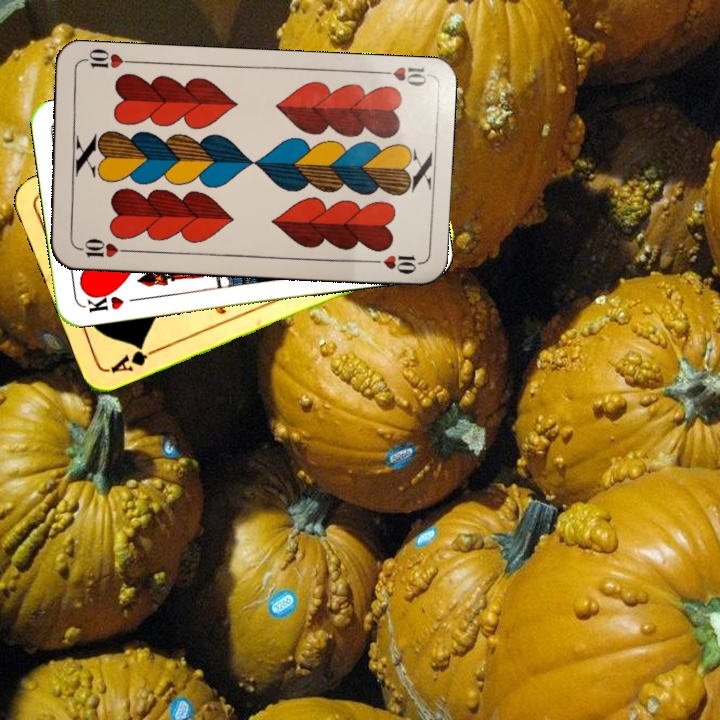GA: (106, 340, 162, 376)
H10: (72, 234, 132, 260), (371, 63, 430, 89)
HK: (80, 286, 140, 315)
